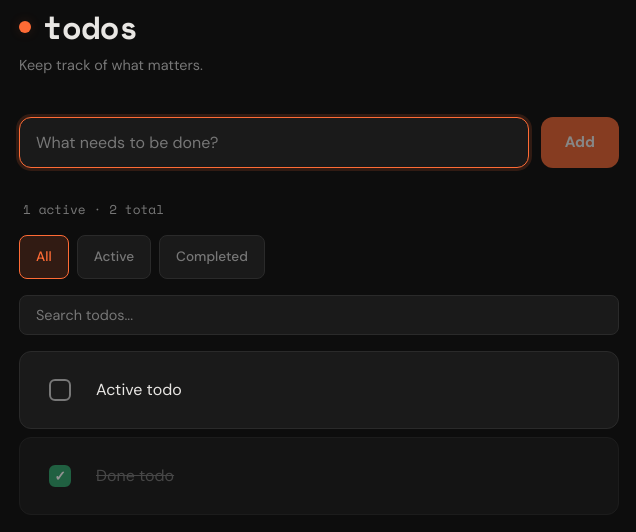
Test case: App › filters to active todos only
Expected: the text "Active todo" is shown, [96,379,182,400]
Click the button "Active".
click(114, 257)  # box [77,235,151,279]
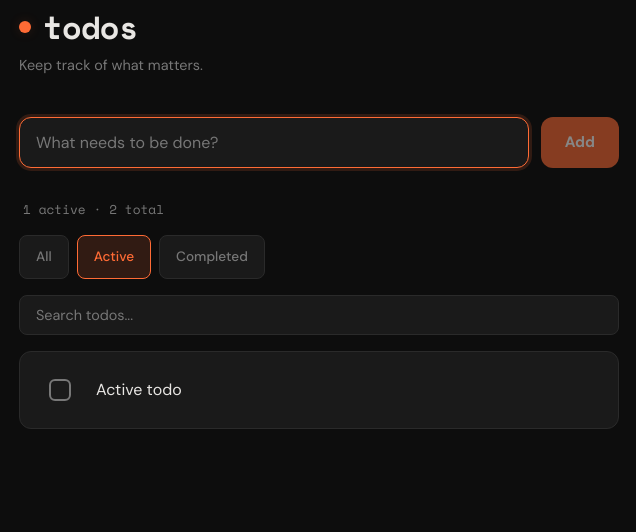
Expected: the text "Active todo" is shown, [96,379,182,400]
Now the text "Done todo" is gone
